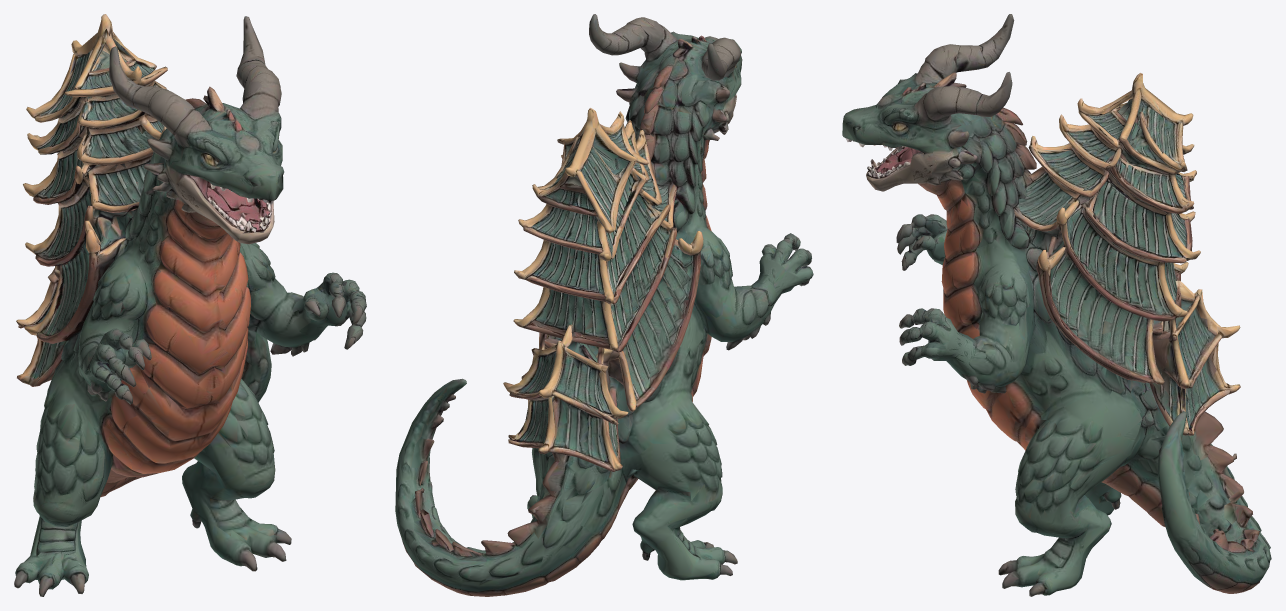
3 renders of one model, left to right at view 1: azimuth 30°, elevation 25°; view 2: azimuth 150°, elevation 25°; view 3: azimuth 270°, elevation 25°, orthographic. The views are drawn at different scales.
Parts seen in each view (by area): view 1: Mesh_0; view 2: Mesh_0; view 3: Mesh_0.
Boxes of the visible parts, x1=… form: Mesh_0: x1=14, y1=14, x2=366, y2=596; Mesh_0: x1=395, y1=14, x2=813, y2=596; Mesh_0: x1=842, y1=14, x2=1271, y2=596.
Size of the model in its own units: 1.14 by 1.9 by 1.47.
Materials: 1 (1 with a texture image).
